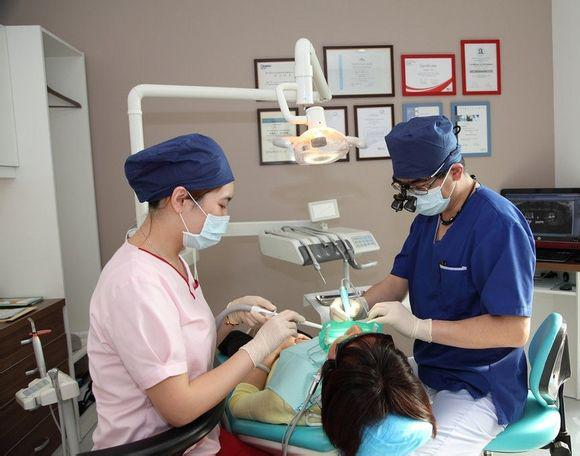OK: (167, 179, 235, 247), (398, 172, 452, 219)
